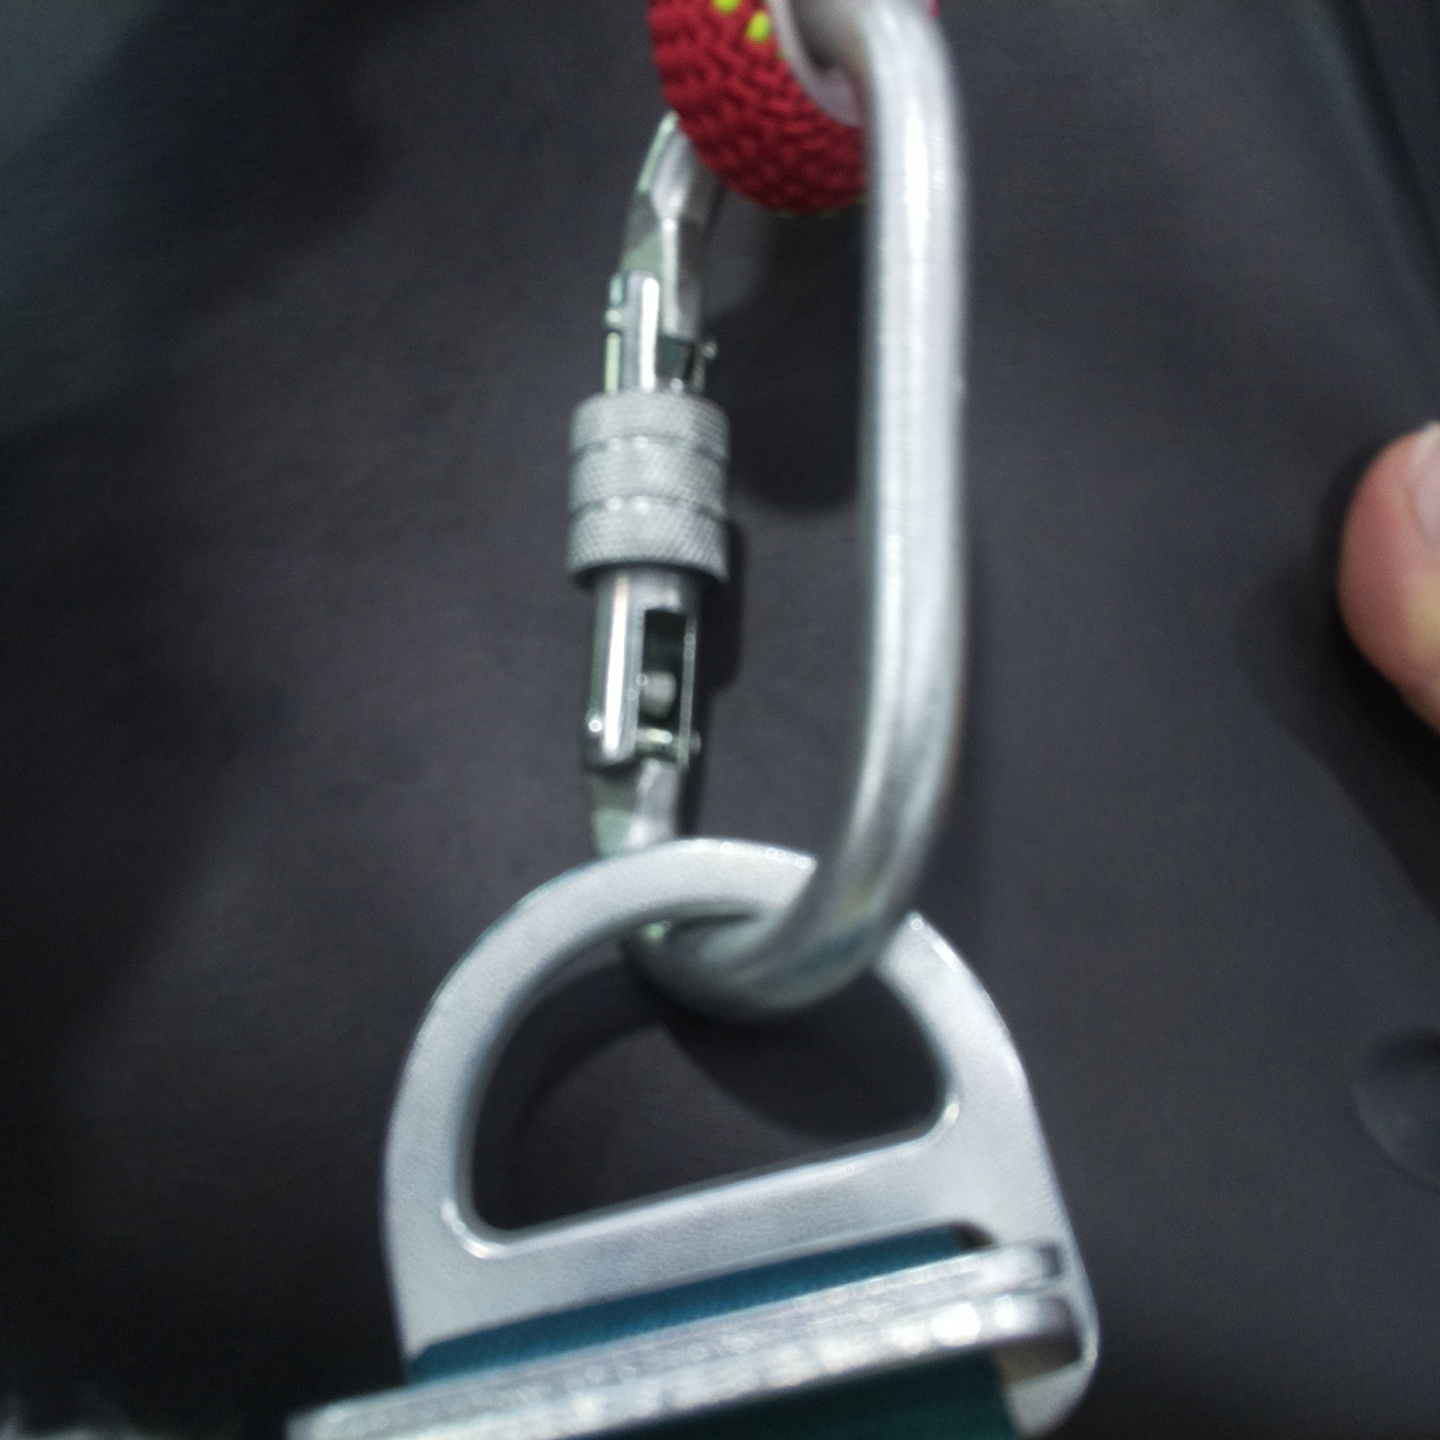SUCCESS: (388, 407, 1085, 1362)
